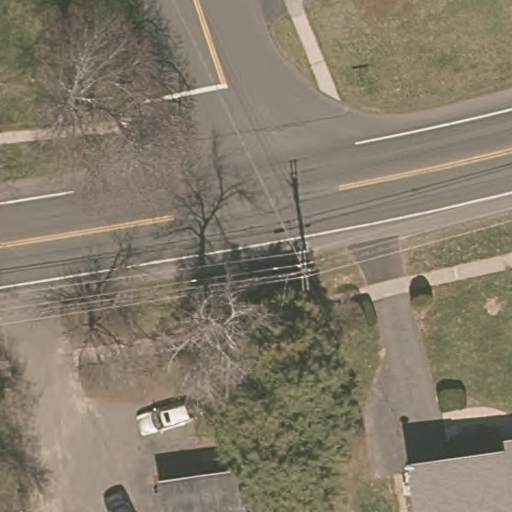DT: (295, 248, 311, 279)
